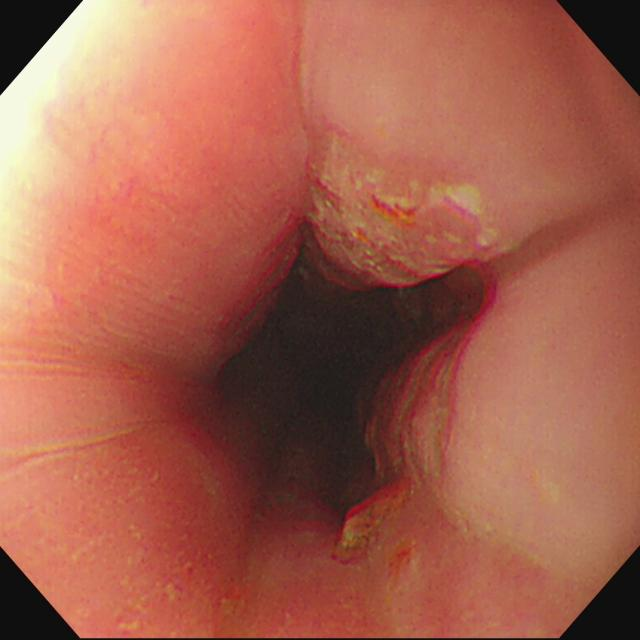A: (361, 319, 480, 471), (309, 171, 459, 291), (331, 481, 420, 578)
E: (277, 303, 363, 440)
